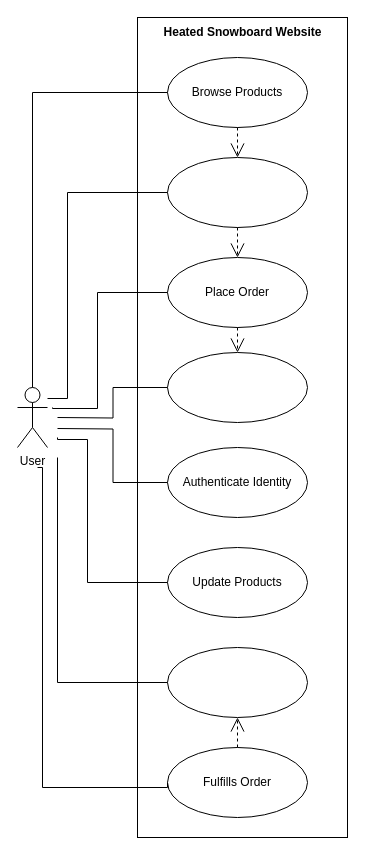
This 365x855 diagram has some shape labels left out. Here are the shapes that lost their labels. From the top down, the box of each, then its label:
(166, 156, 308, 228): Add Products to Shopping Cart
(166, 352, 308, 422): Pay for Order
(166, 646, 308, 718): Update Inventory
